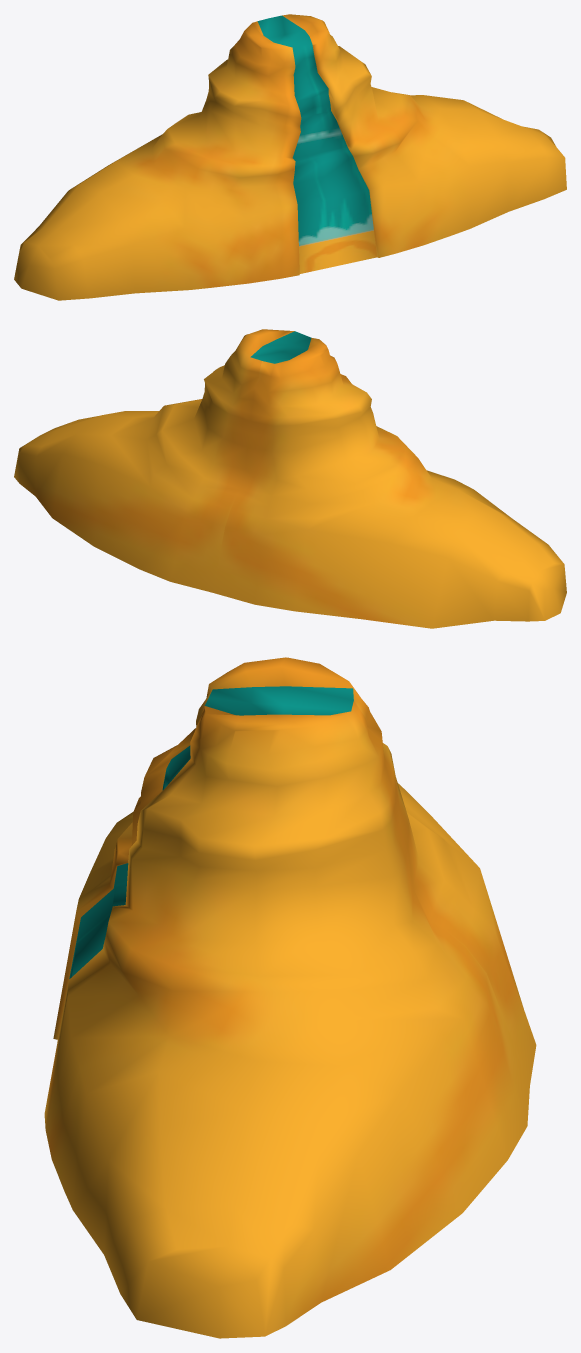
File: MDLCascada.fbx
3 views of the same model, one above another, from view 1: azimuth 30°, elevation 25°; view 2: azimuth 150°, elevation 25°; view 3: azimuth 270°, elevation 25° (orthographic). The views are drawn at different scales.
Parts seen in each view (by area): view 1: MDL_Cascada; view 2: MDL_Cascada; view 3: MDL_Cascada.
Boxes of the visible parts, <box> form: MDL_Cascada: <box>14,14,566,300</box>; MDL_Cascada: <box>14,329,566,628</box>; MDL_Cascada: <box>44,657,536,1338</box>.
Bounding box in the file's own units: 944 × 332 × 380.
